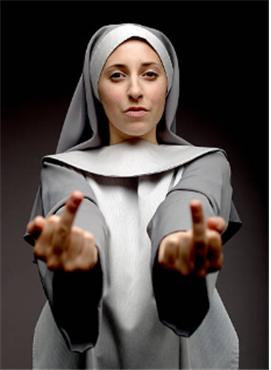insulting_gesture: (23, 191, 101, 283), (154, 199, 228, 282)
